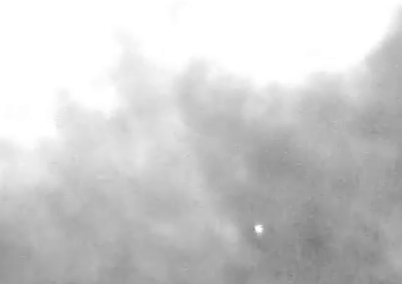Target: (255, 225, 262, 232)
